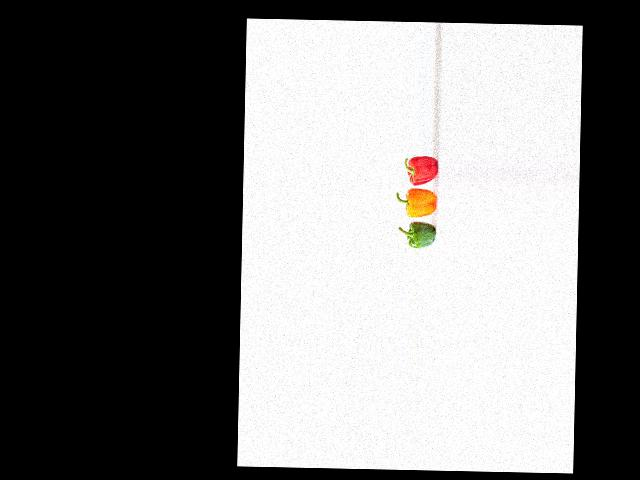bell_pepper: (396, 153, 437, 186)
